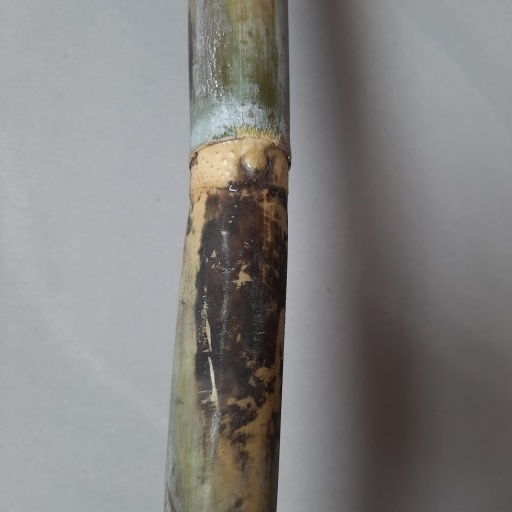Bud: (239, 148, 270, 184)
